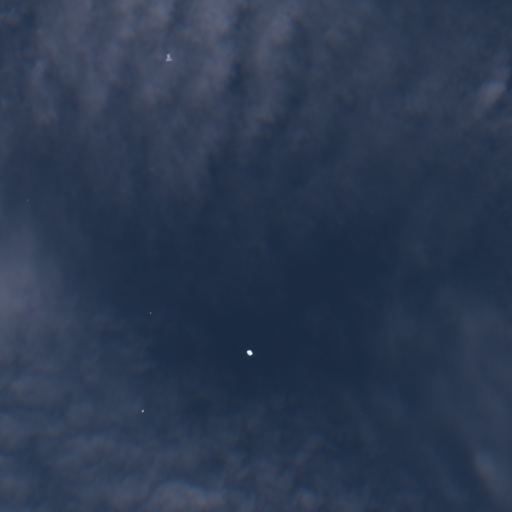Iceberg: (165, 53, 171, 61), (246, 350, 252, 355), (141, 409, 144, 412), (149, 312, 151, 313), (27, 199, 28, 200)
